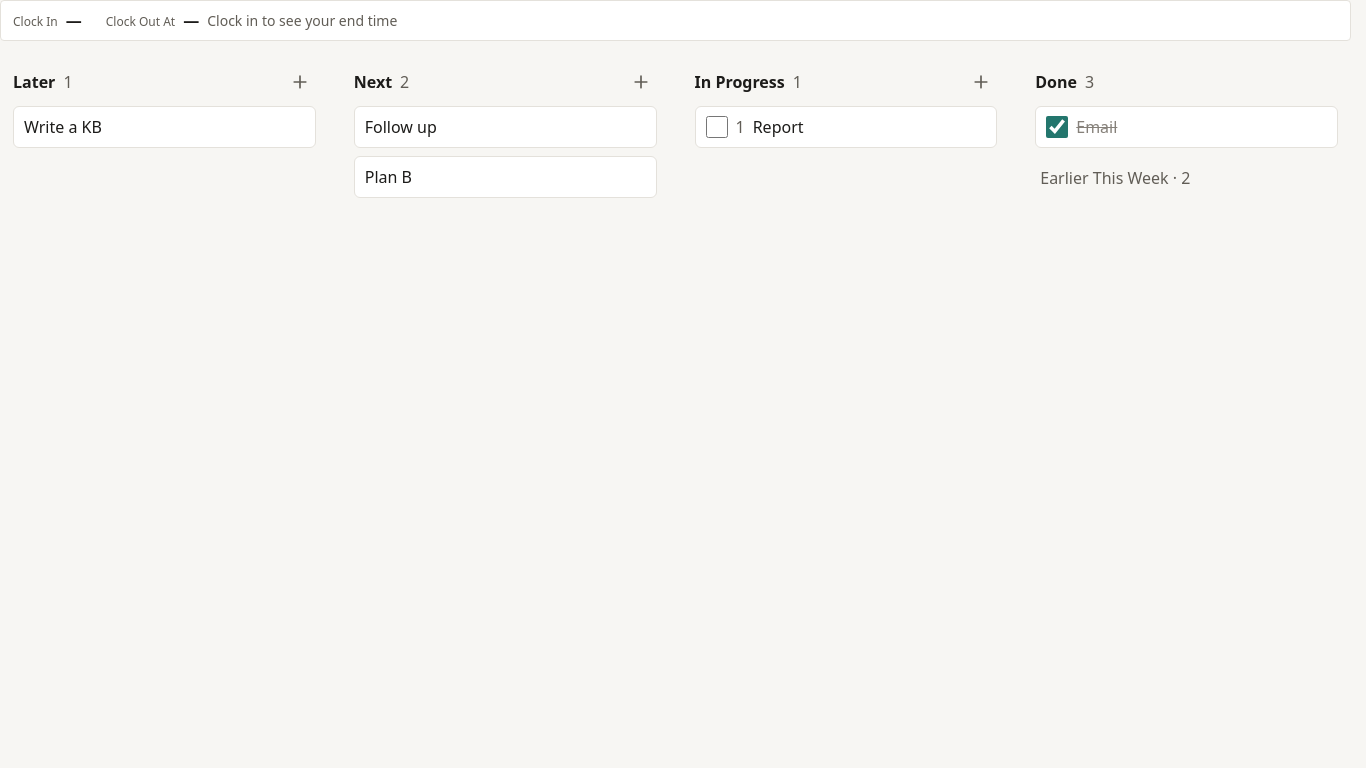
it: Board › gives a task done on an earlier day no tick, saying where to untick it, and Move to brings it back
The width and height of the screenshot is (1366, 768).
Click the button "Earlier This Week · 2" at (1115, 178), box [1035, 156, 1196, 200]
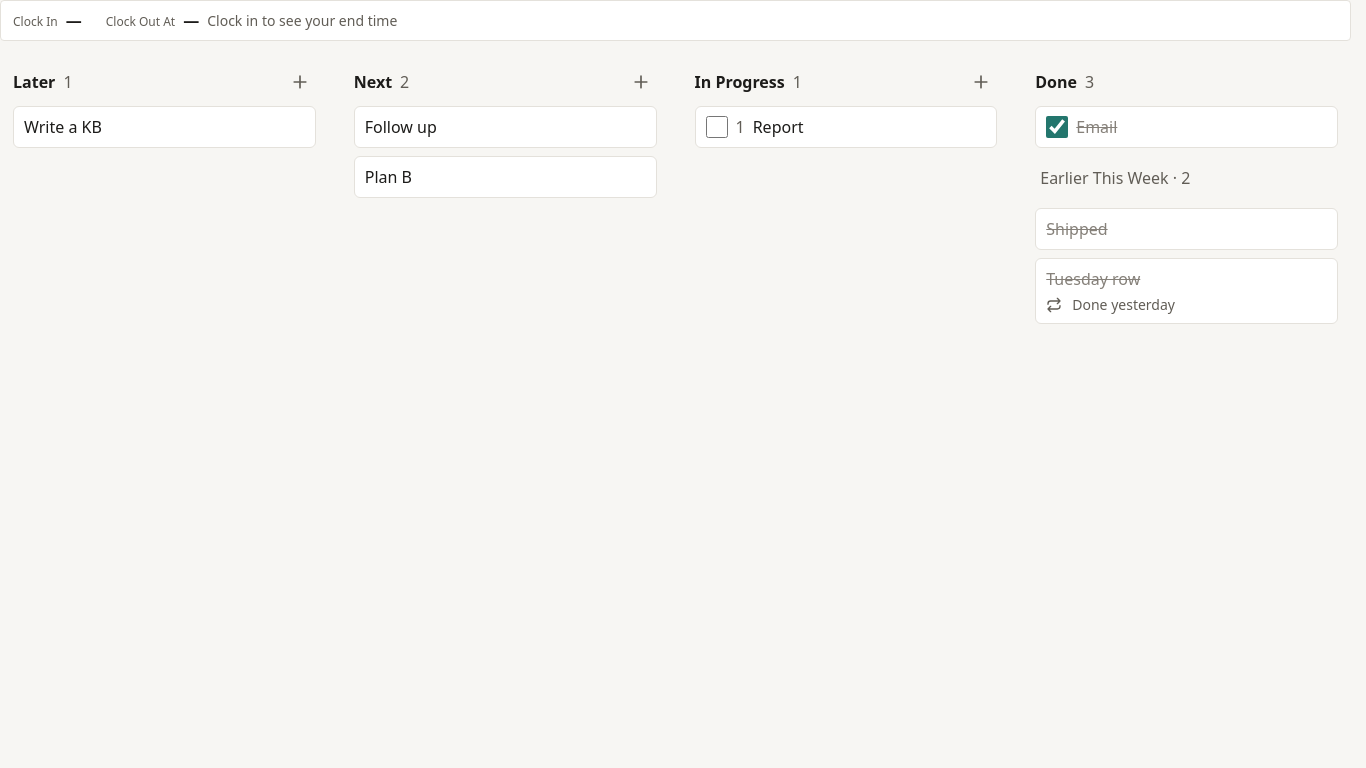
Expected: the checkbox labelled "Shipped done" is not shown
Click the button "Shipped" at (1077, 229), box [1046, 217, 1327, 241]
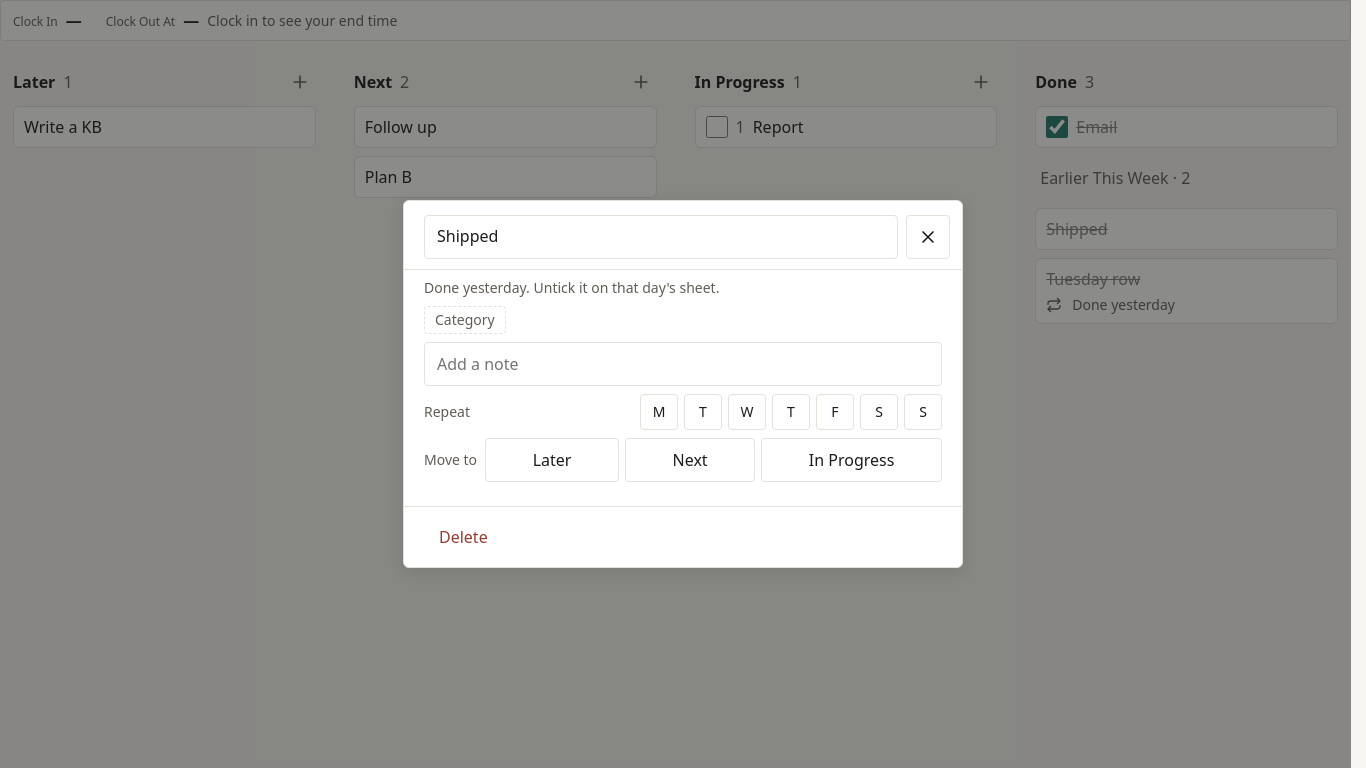
Expected: the field named "Title" is shown, [424, 215, 898, 259]
Expected: the button with aria-label "Category for Shipped: none" is shown, [424, 306, 506, 334]
Expected: the button "Delete" is shown, [424, 515, 503, 559]
Click the button "In Progress" at (852, 460), box [761, 438, 942, 482]
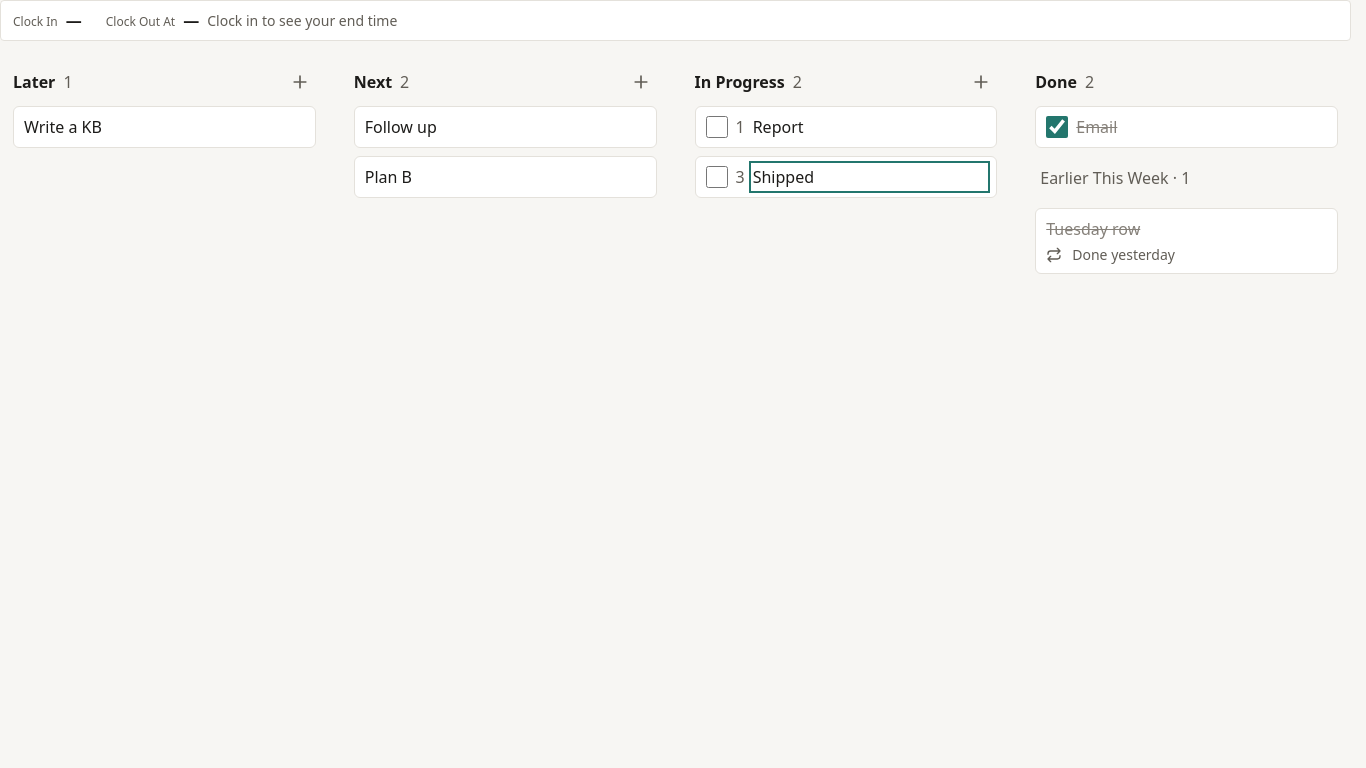
Expected: the dialog is gone
Click the button "Email" at (1202, 127), box [1076, 115, 1327, 139]
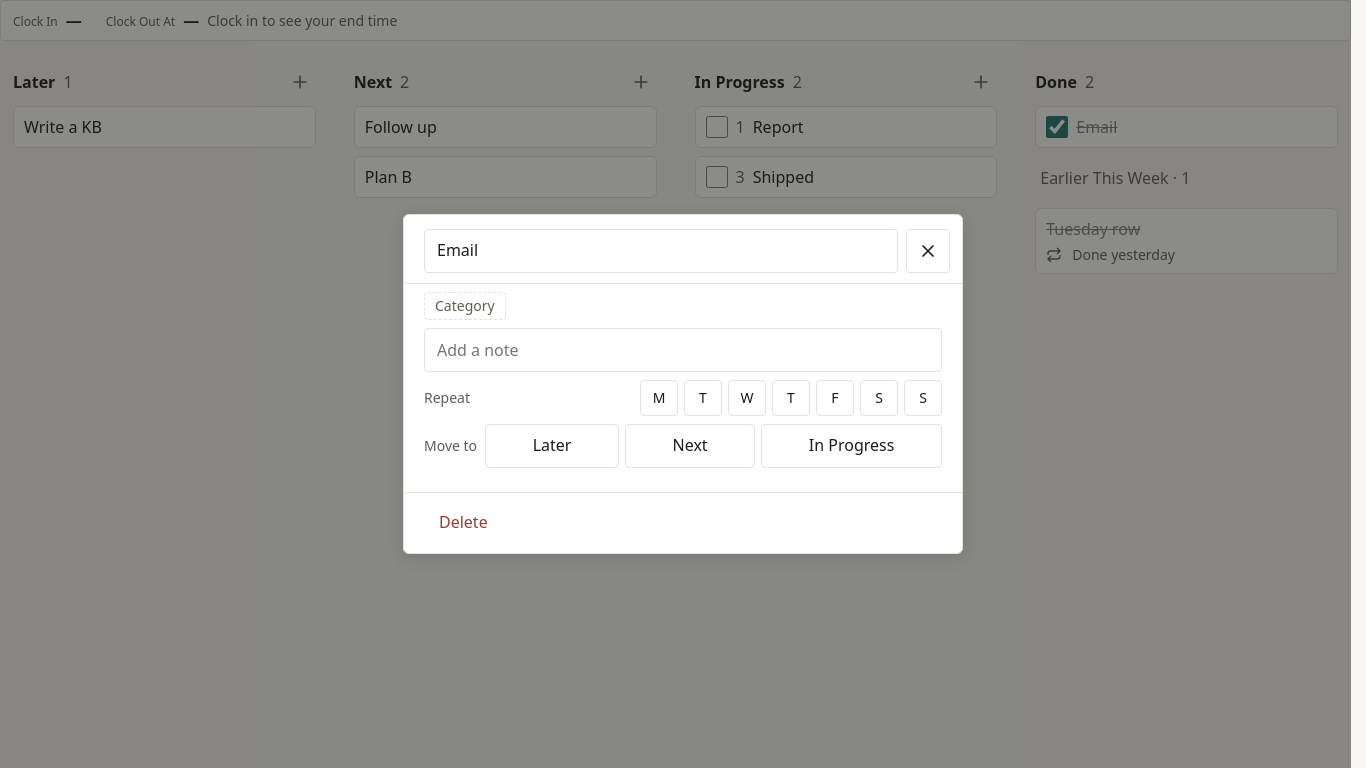
Expected: the checkbox named "Email done" is shown, [1046, 116, 1068, 138]
Expected: the button "Delete" is shown, [424, 501, 503, 545]
